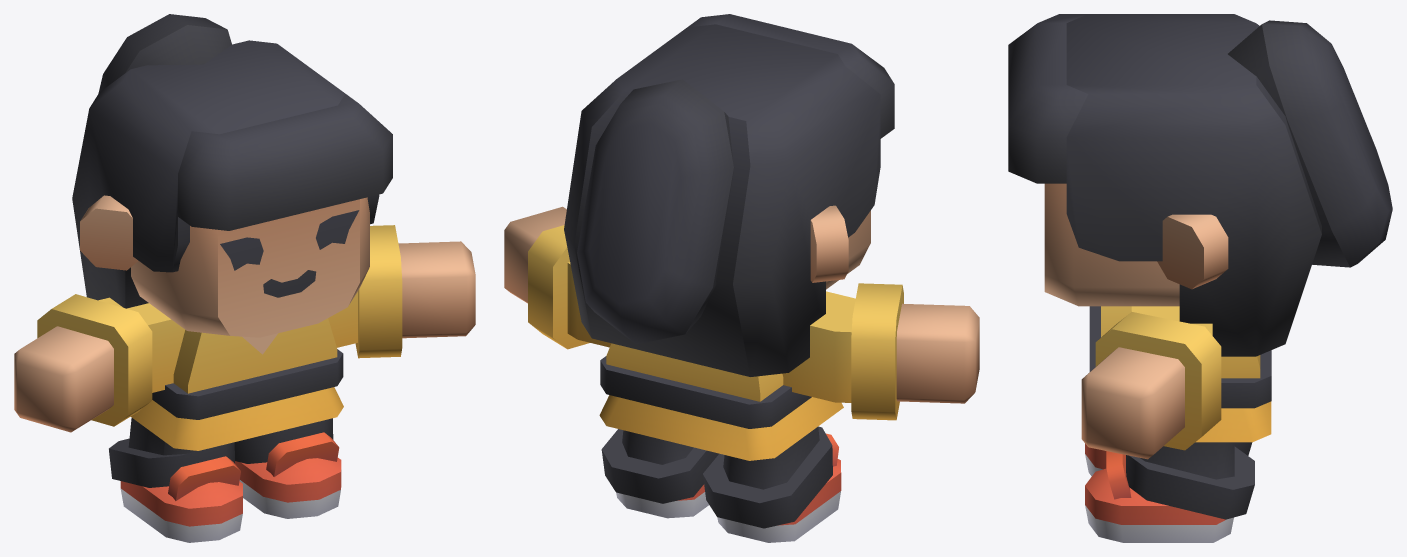
The model's file is character-skate-girl.obj.
The picture shows the model from 3 angles, left to right: view 1: azimuth 30°, elevation 25°; view 2: azimuth 150°, elevation 25°; view 3: azimuth 270°, elevation 25°; orthographic projection. The views are drawn at different scales.
Visible parts, largest first — view 1: head-mesh, body-mesh; view 2: head-mesh, body-mesh; view 3: head-mesh, body-mesh.
Part boxes in pixels (<box>): head-mesh: <box>72,14,392,337</box>; body-mesh: <box>14,225,475,542</box>; head-mesh: <box>564,14,894,376</box>; body-mesh: <box>504,206,979,542</box>; head-mesh: <box>1008,14,1392,356</box>; body-mesh: <box>1081,306,1271,542</box>.
Bounding box in the file's own units: 0.7672 × 0.7165 × 0.5271.
1 material, 1 textured.
